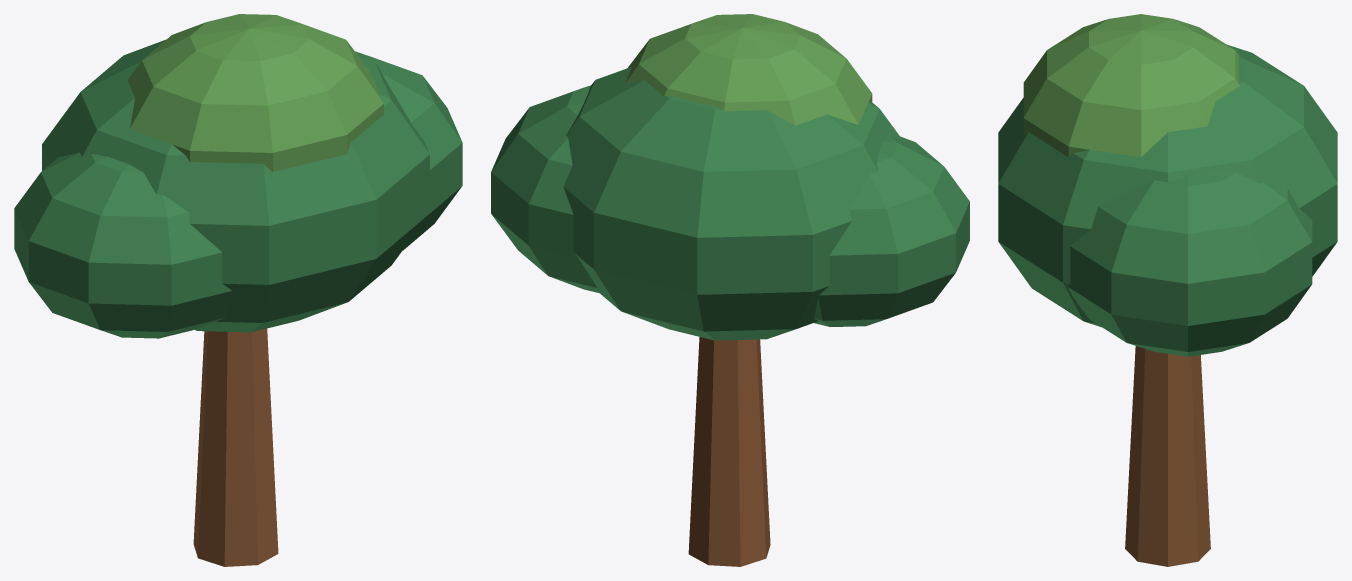
Rendered from tree_canopy.glb.
3 views of the same model, side by side, from view 1: azimuth 30°, elevation 25°; view 2: azimuth 150°, elevation 25°; view 3: azimuth 270°, elevation 25° (orthographic). The views are drawn at different scales.
Visible parts, largest first — view 1: rough; view 2: rough; view 3: rough.
Part boxes in pixels (<box>): rough: <box>14,14,462,566</box>; rough: <box>491,14,969,566</box>; rough: <box>998,14,1337,566</box>.
Bounding box in the file's own units: 3.72 × 4.26 × 2.53.
